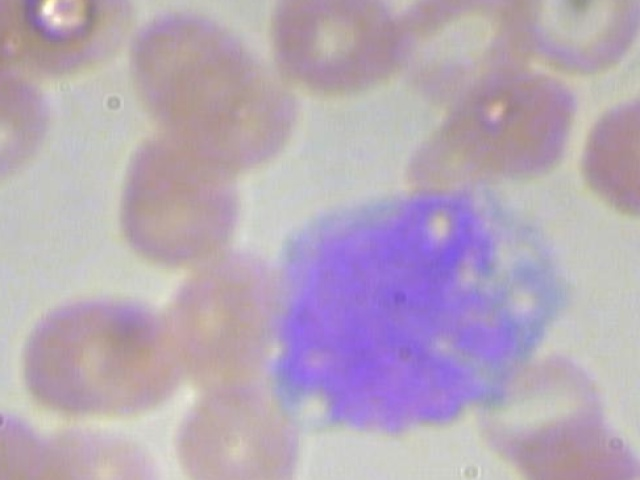RBC: (10, 281, 162, 418), (103, 124, 255, 261), (145, 45, 297, 182), (444, 65, 583, 183), (168, 367, 307, 480), (258, 0, 410, 98), (553, 87, 640, 224), (6, 0, 141, 83), (500, 0, 640, 77), (0, 56, 58, 193)
WBC: (255, 166, 580, 439)
